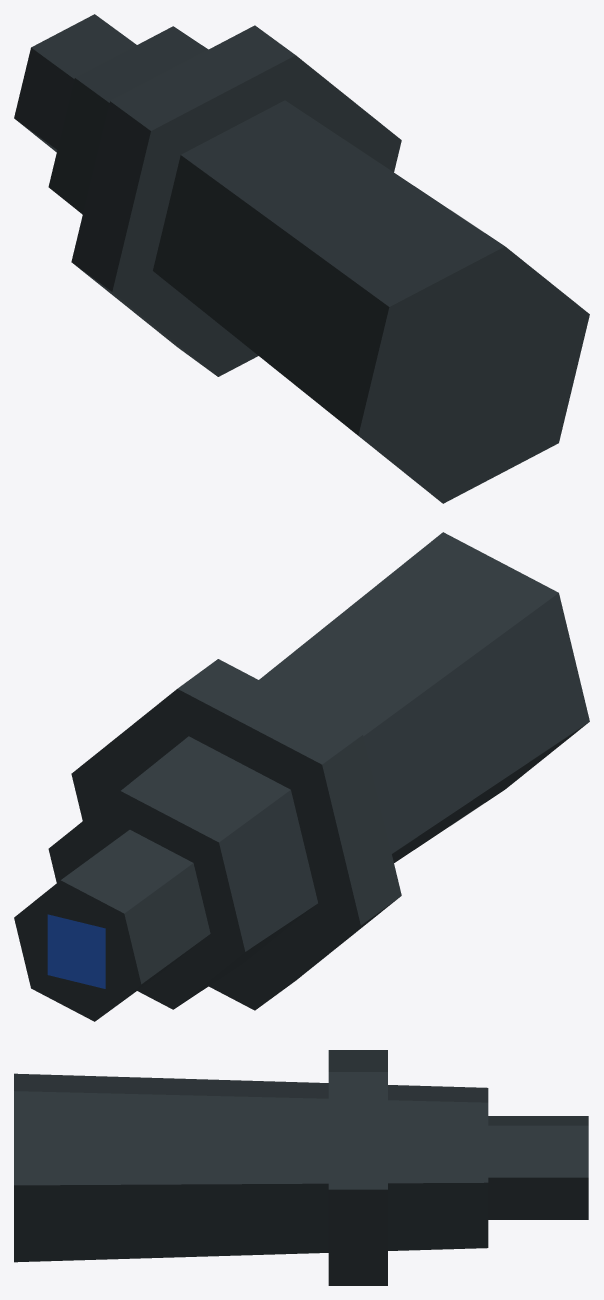
The picture shows the model from 3 angles, top to bottom: view 1: azimuth 30°, elevation 25°; view 2: azimuth 150°, elevation 25°; view 3: azimuth 270°, elevation 25°; orthographic projection. The views are drawn at different scales.
Parts seen in each view (by area): view 1: mount; view 2: mount; view 3: mount.
Boxes of the visible parts, bbox=[...] form: mount: bbox=[14, 14, 589, 503]; mount: bbox=[14, 532, 589, 1021]; mount: bbox=[14, 1050, 588, 1285].
Bounding box in the file's own units: 5.31 × 5.31 × 12.63.
